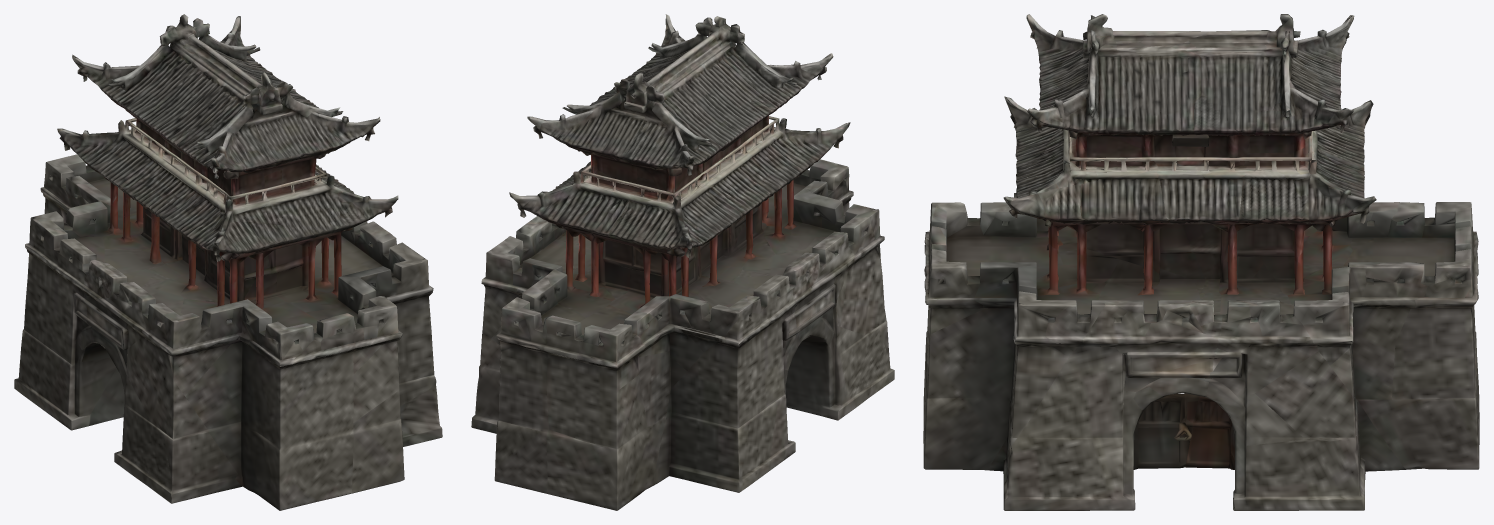
The model's file is gate-low.glb.
3 views of the same model, side by side, from view 1: azimuth 30°, elevation 25°; view 2: azimuth 150°, elevation 25°; view 3: azimuth 270°, elevation 25° (orthographic). The views are drawn at different scales.
Bounding box in the file's own units: 0.6493 × 0.8348 × 0.9999.
Materials: 1 (1 with a texture image).
